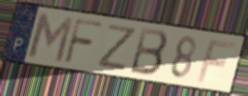8: (169, 35, 198, 80)
B: (128, 26, 170, 78)
F: (61, 16, 105, 66), (195, 38, 239, 84)
M: (26, 11, 76, 65)
Z: (95, 22, 139, 73)
